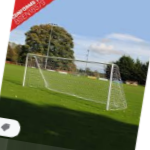goals: (21, 50, 129, 112)
